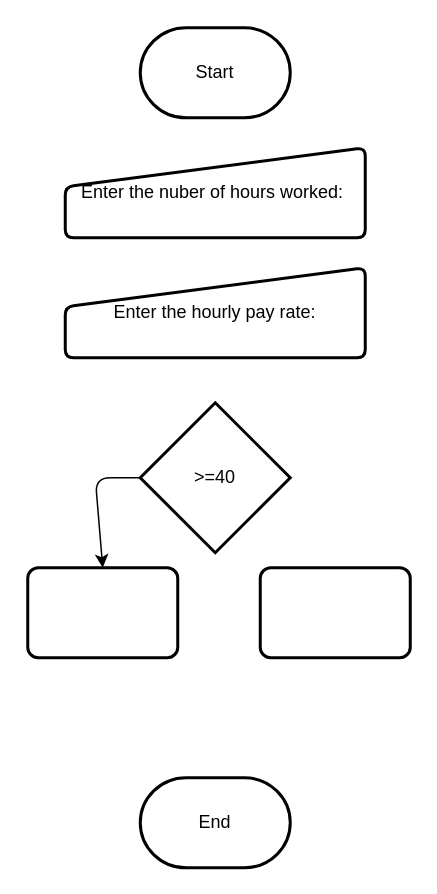
The diagram is 437 pixels wide and 894 high, and some of its shapes have lost their labels. Here are the shapes that lost their labels. From the top down, the centre of each, then its label:
At (x=102, y=612): "horrs_worked * pay_rate".
At (x=334, y=612): "horrs_worked * pay_rate * 1.5".
